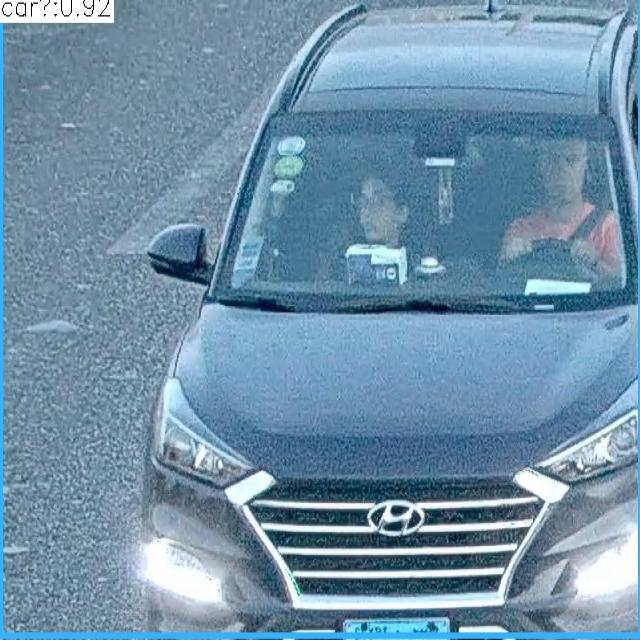windshield: (212, 113, 640, 291)
